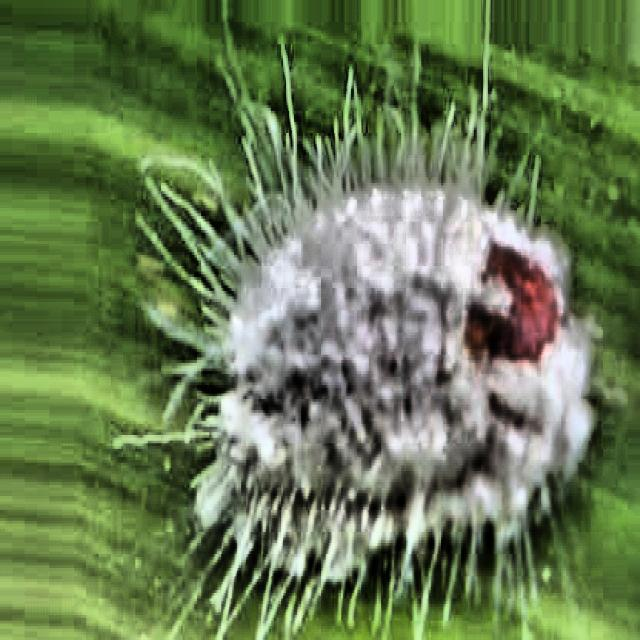Mealy-bug: (175, 60, 632, 636)
